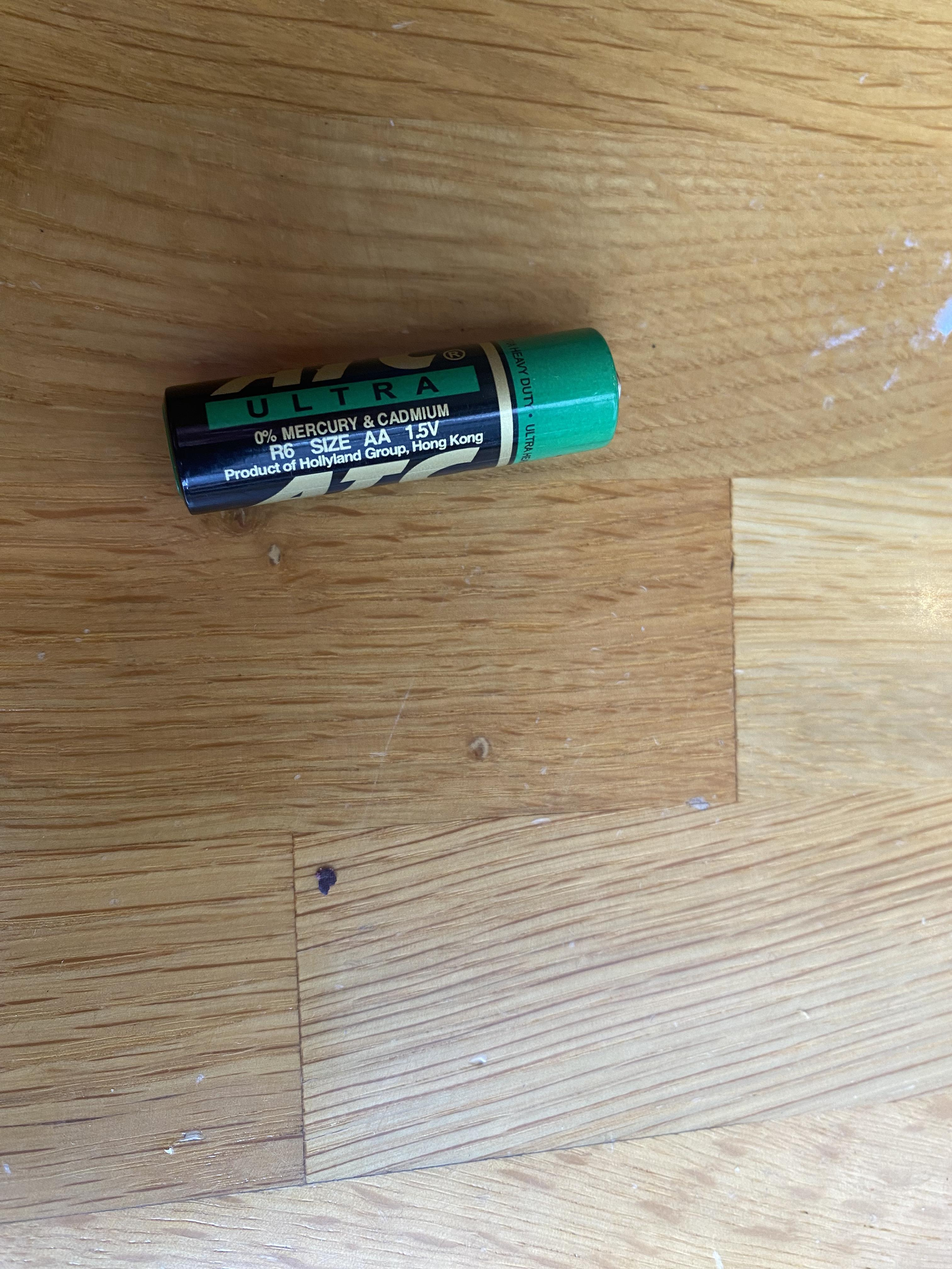AA: (159, 317, 630, 523)
